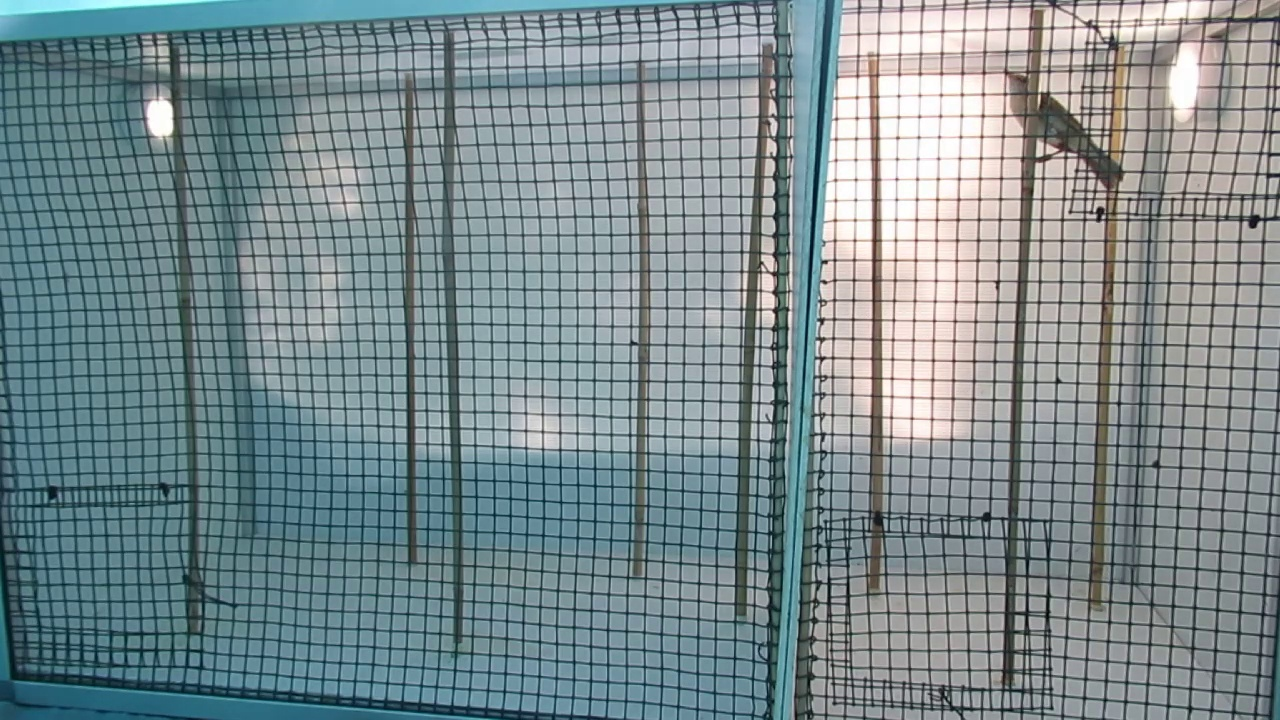bird: (1003, 71, 1110, 191)
stick: (1002, 13, 1044, 684), (733, 46, 777, 617), (1089, 45, 1130, 605), (170, 49, 204, 630), (441, 36, 465, 642), (401, 78, 421, 564), (866, 59, 883, 588), (634, 62, 649, 577)
